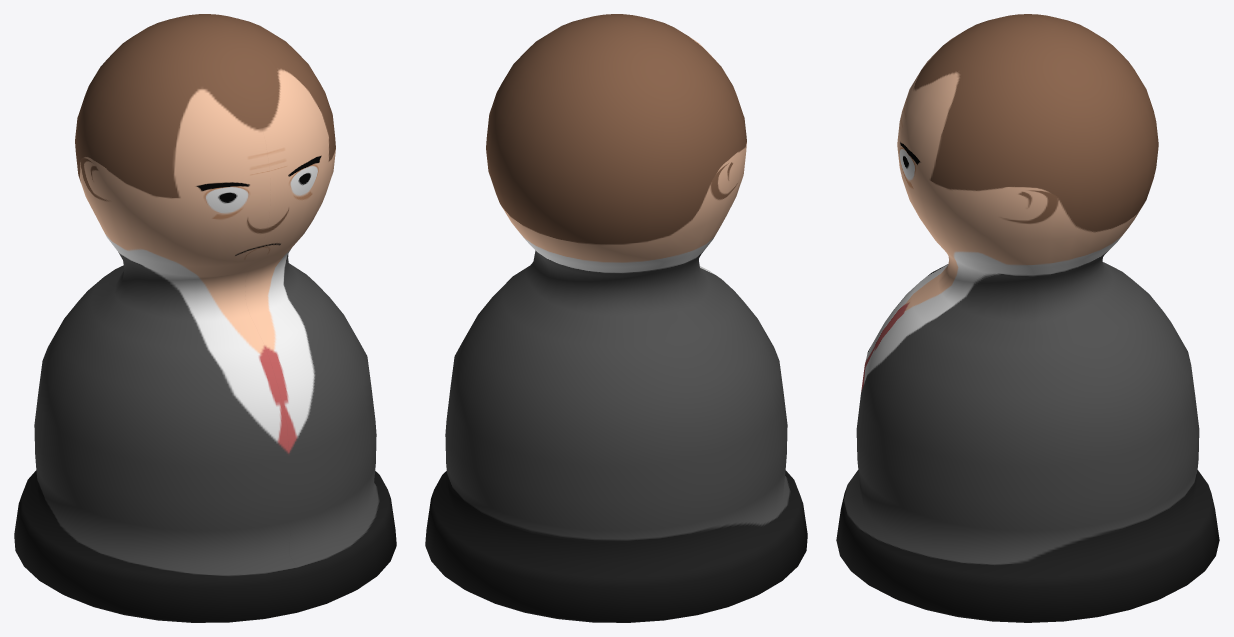
File: Character.obj
The picture shows the model from 3 angles, left to right: view 1: azimuth 30°, elevation 25°; view 2: azimuth 150°, elevation 25°; view 3: azimuth 270°, elevation 25°; orthographic projection.
Parts seen in each view (by area): view 1: CharPawn_Sphere; view 2: CharPawn_Sphere; view 3: CharPawn_Sphere.
Part boxes in pixels (<box>): CharPawn_Sphere: <box>14,14,396,622</box>; CharPawn_Sphere: <box>425,14,807,622</box>; CharPawn_Sphere: <box>836,14,1219,622</box>.
Size of the model in its own units: 1.42 by 2.13 by 1.42.
Materials: 1 (1 with a texture image).
